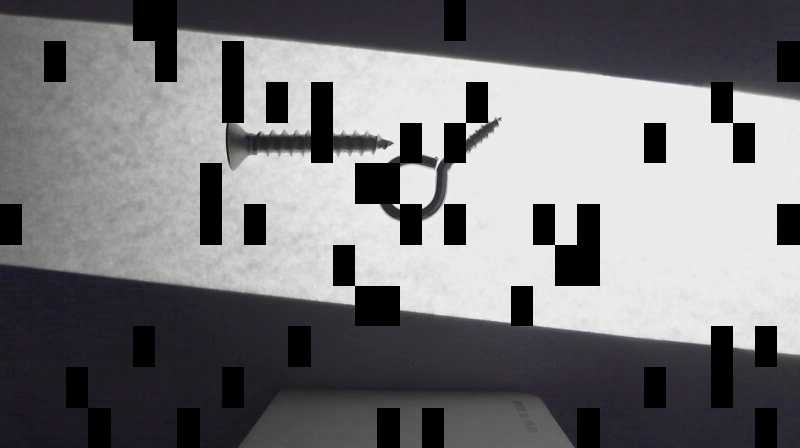O001: (375, 114, 504, 222)
S001: (222, 117, 396, 167)
